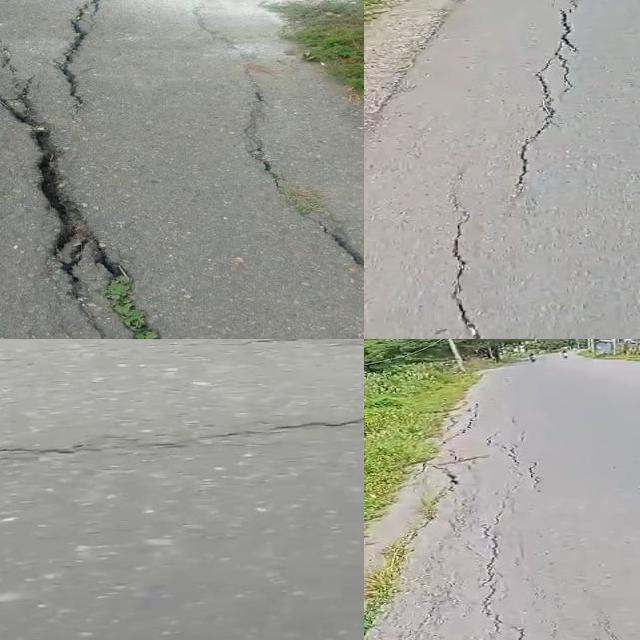Melintang: (0, 408, 364, 476)
Memanjang: (0, 20, 170, 339), (493, 0, 585, 200), (475, 472, 529, 640), (440, 168, 482, 339), (57, 0, 111, 116)
